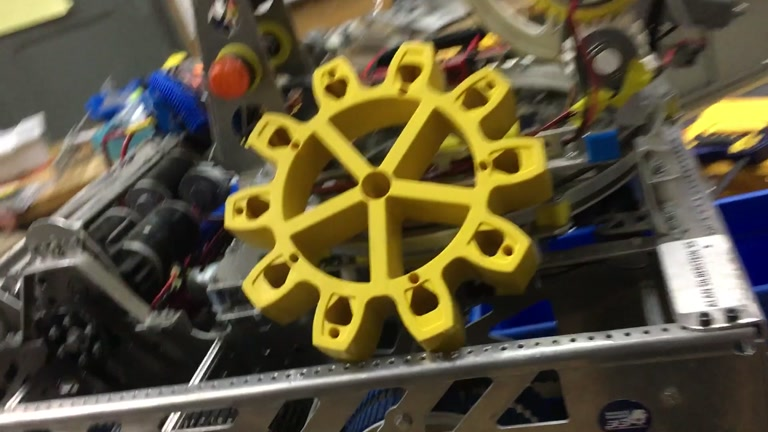gear: (224, 44, 551, 362)
